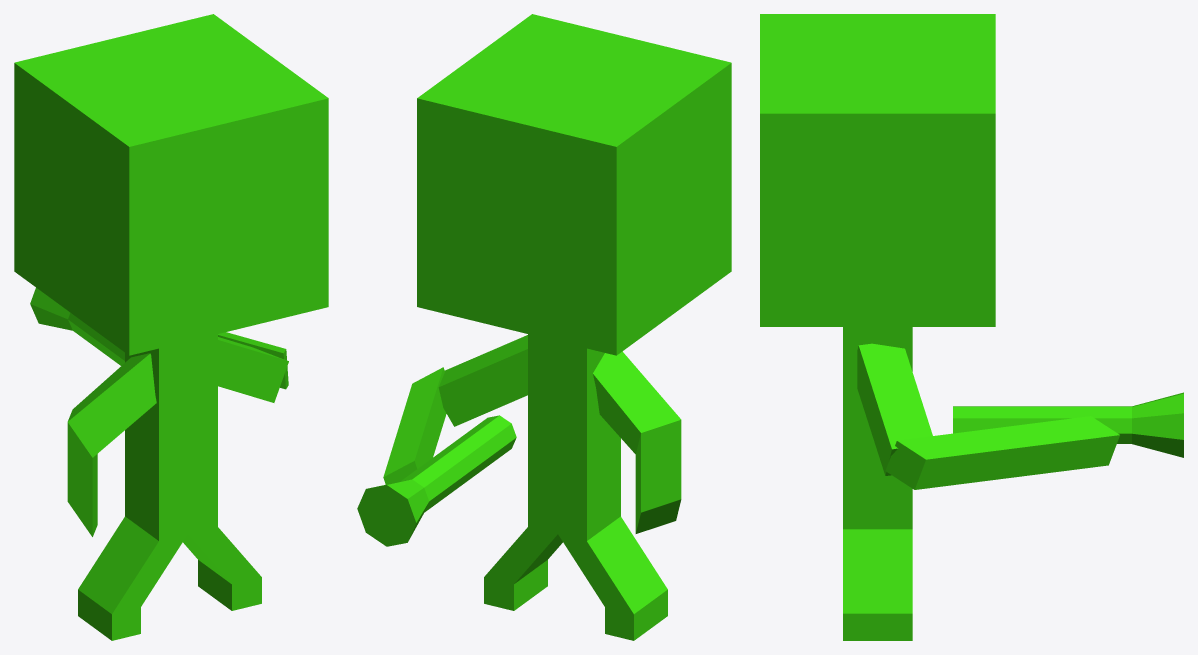
The model's file is player.glb.
3 renders of one model, left to right at view 1: azimuth 30°, elevation 25°; view 2: azimuth 150°, elevation 25°; view 3: azimuth 270°, elevation 25°, orthographic. The views are drawn at different scales.
Parts seen in each view (by area): view 1: Cube.001; view 2: Cube.001; view 3: Cube.001.
Part boxes in pixels (<box>): Cube.001: <box>14,14,328,640</box>; Cube.001: <box>357,14,731,640</box>; Cube.001: <box>760,14,1183,640</box>.
Bounding box in the file's own units: 0.5363 × 1.11 × 0.7895.
